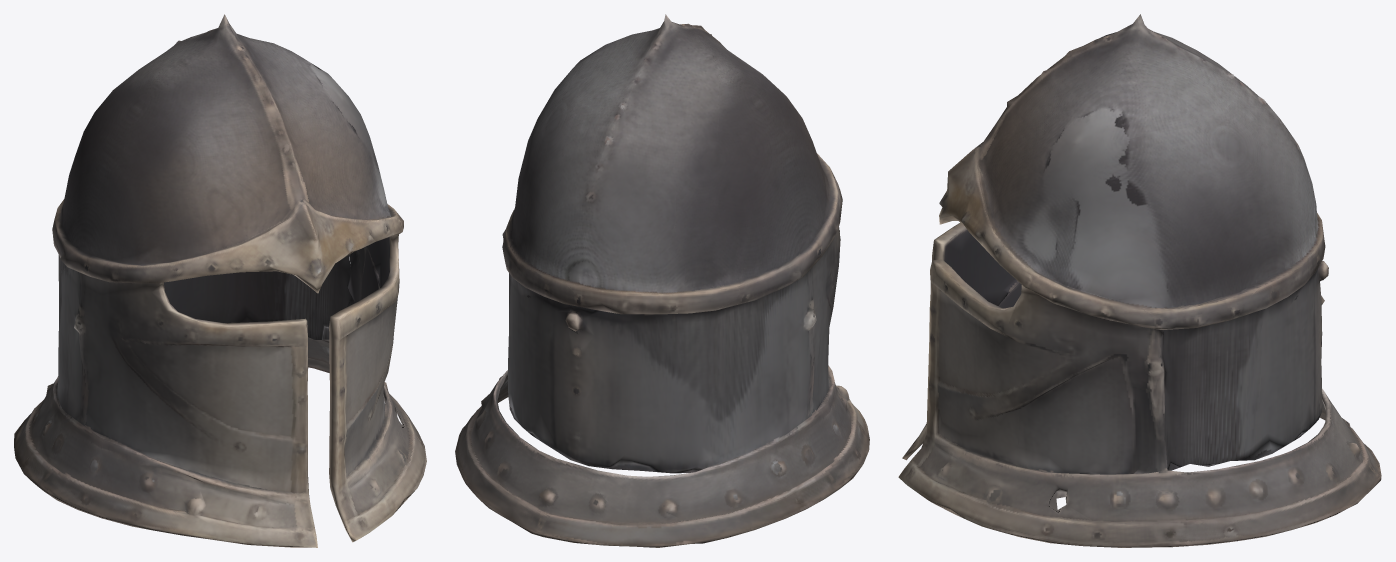
Rendered from helmet.glb.
The picture shows the model from 3 angles, left to right: view 1: azimuth 30°, elevation 25°; view 2: azimuth 150°, elevation 25°; view 3: azimuth 270°, elevation 25°; orthographic projection. The views are drawn at different scales.
Visible parts, largest first — view 1: geometry_0; view 2: geometry_0; view 3: geometry_0.
Part boxes in pixels (x1,y1,x2,y2): geometry_0: [14, 14, 426, 547]; geometry_0: [455, 14, 869, 547]; geometry_0: [898, 14, 1381, 547].
Size of the model in its own units: 0.8196 by 0.9859 by 0.9395.
Materials: 1 (1 with a texture image).
